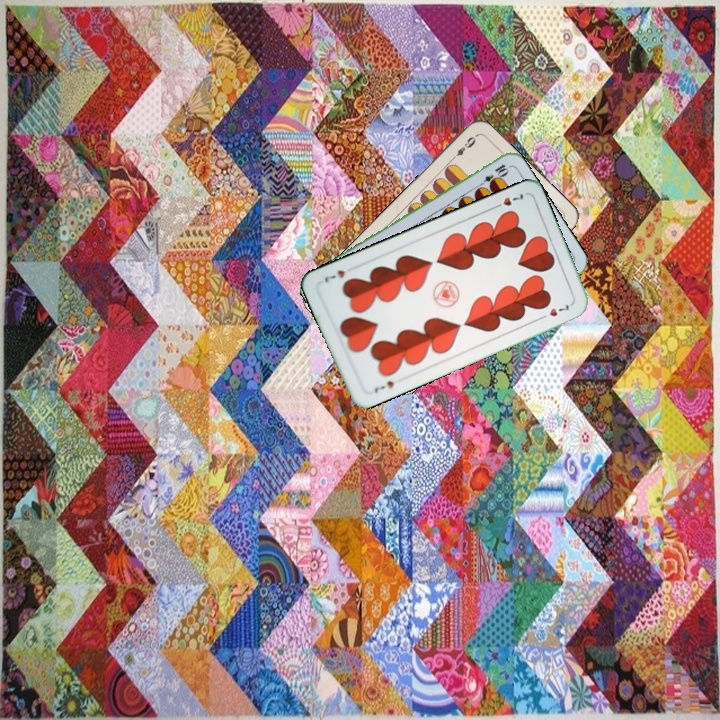E10: (474, 160, 511, 191)
E9: (447, 132, 479, 164)
H7: (489, 189, 526, 212), (370, 377, 397, 395)
